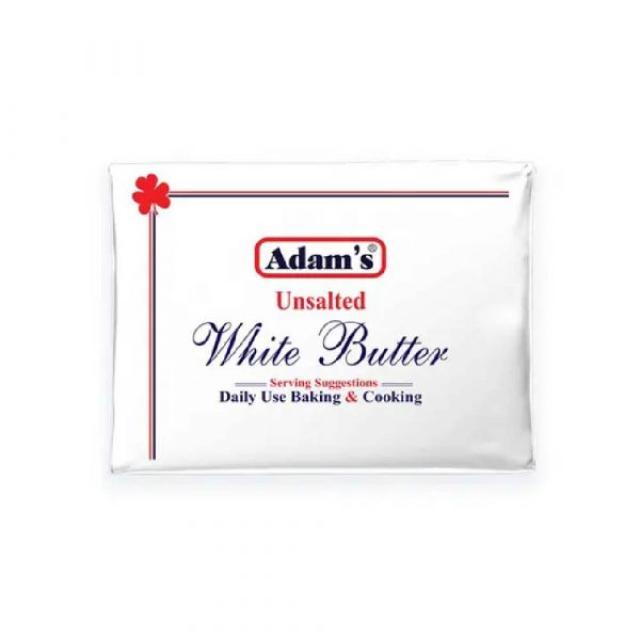butter: (108, 159, 536, 475)
